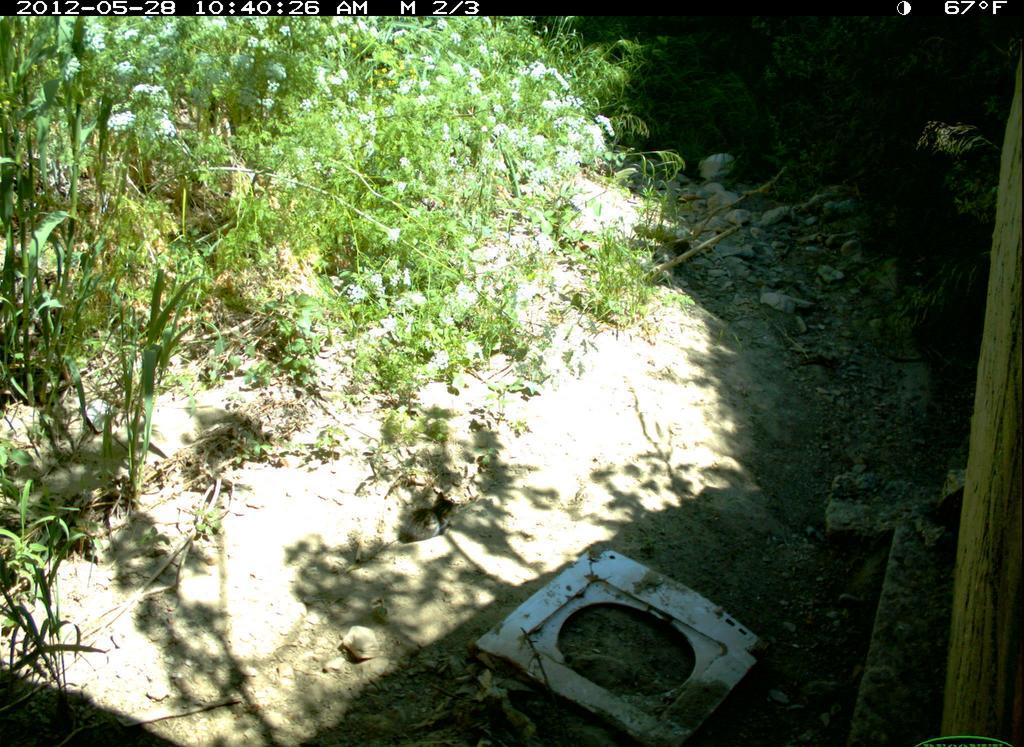cat: (392, 481, 473, 550)
